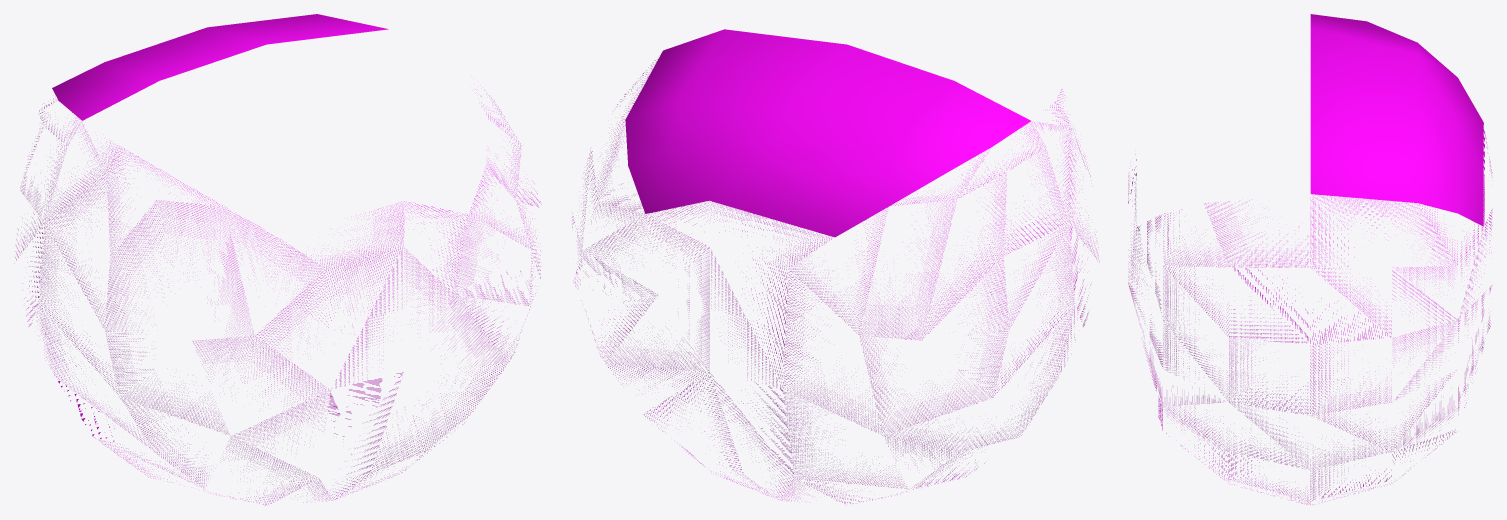
File: ava_head__ava_head.glb
The picture shows the model from 3 angles, left to right: view 1: azimuth 30°, elevation 25°; view 2: azimuth 150°, elevation 25°; view 3: azimuth 270°, elevation 25°; orthographic projection. The views are drawn at different scales.
Parts seen in each view (by area): view 1: polygon0; view 2: polygon0; view 3: polygon0.
Boxes of the visible parts, x1,y1,x2,y2 form: polygon0: [15, 14, 541, 505]; polygon0: [572, 29, 1099, 503]; polygon0: [1128, 14, 1492, 504].
Size of the model in its own units: 5.34 by 4.8 by 3.9.
1 material, 1 textured.
